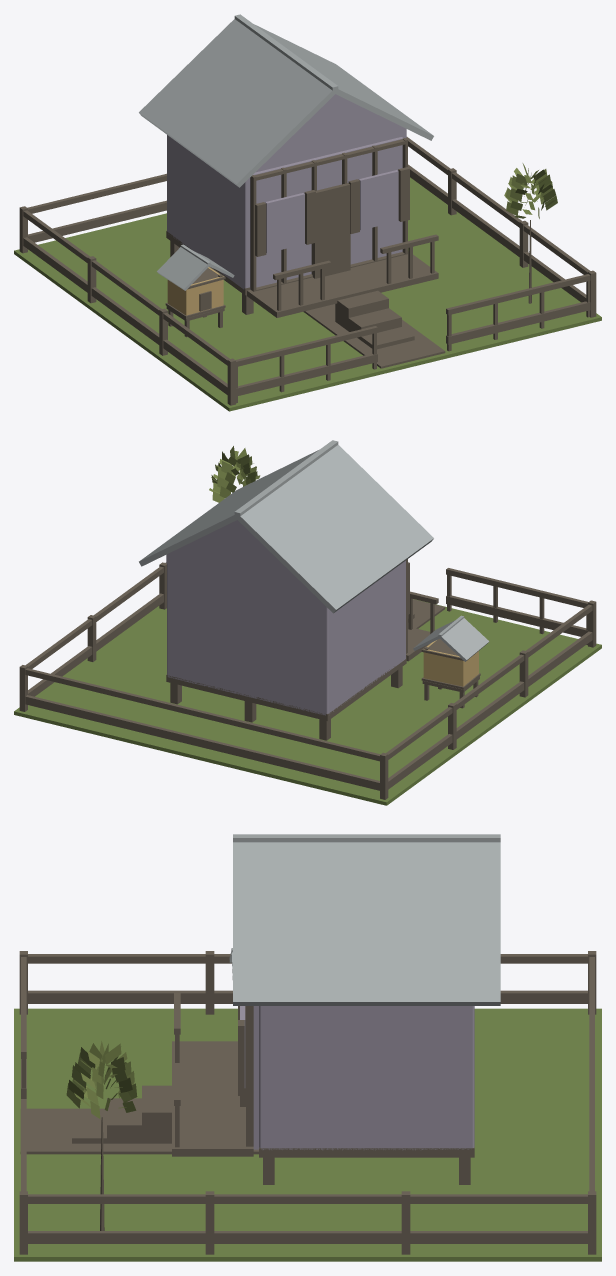
The model's file is res.house_0_0@northeast.gltf.
3 renders of one model, top to bottom at view 1: azimuth 30°, elevation 25°; view 2: azimuth 150°, elevation 25°; view 3: azimuth 270°, elevation 25°, orthographic. The views are drawn at different scales.
Parts seen in each view (by area): view 1: res.house_0_0/wood_painted#6f6659, res.house_0_0/grass, res.house_0_0/wood_painted#a29baa, res.house_0_0/roof_metal_corrugated#aab0b1, res.house_0_0/foliage_tropical#758348, res.house_0_0/bamboo_split#c7ac75; view 2: res.house_0_0/grass, res.house_0_0/wood_painted#a29baa, res.house_0_0/wood_painted#6f6659, res.house_0_0/roof_metal_corrugated#aab0b1, res.house_0_0/foliage_tropical#758348, res.house_0_0/bamboo_split#c7ac75; view 3: res.house_0_0/grass, res.house_0_0/wood_painted#6f6659, res.house_0_0/roof_metal_corrugated#aab0b1, res.house_0_0/wood_painted#a29baa, res.house_0_0/foliage_tropical#758348.
Part boxes in pixels (left/top/right/bottom): res.house_0_0/wood_painted#6f6659: left=19, top=137, right=596, bottom=405; res.house_0_0/grass: left=14, top=177, right=601, bottom=411; res.house_0_0/wood_painted#a29baa: left=167, top=94, right=406, bottom=289; res.house_0_0/roof_metal_corrugated#aab0b1: left=139, top=14, right=433, bottom=290; res.house_0_0/foliage_tropical#758348: left=504, top=163, right=557, bottom=218; res.house_0_0/bamboo_split#c7ac75: left=167, top=267, right=223, bottom=315; res.house_0_0/grass: left=14, top=599, right=601, bottom=805; res.house_0_0/wood_painted#a29baa: left=166, top=520, right=405, bottom=715; res.house_0_0/wood_painted#6f6659: left=19, top=559, right=596, bottom=799; res.house_0_0/roof_metal_corrugated#aab0b1: left=139, top=440, right=489, bottom=661; res.house_0_0/foliage_tropical#758348: left=209, top=446, right=260, bottom=502; res.house_0_0/bamboo_split#c7ac75: left=423, top=640, right=478, bottom=686; res.house_0_0/grass: left=14, top=1008, right=601, bottom=1261; res.house_0_0/wood_painted#6f6659: left=19, top=951, right=596, bottom=1254; res.house_0_0/roof_metal_corrugated#aab0b1: left=229, top=834, right=500, bottom=1005; res.house_0_0/wood_painted#a29baa: left=240, top=1006, right=474, bottom=1150; res.house_0_0/foliage_tropical#758348: left=66, top=1041, right=137, bottom=1118.
Size of the model in its own units: 9 by 5.09 by 9.
